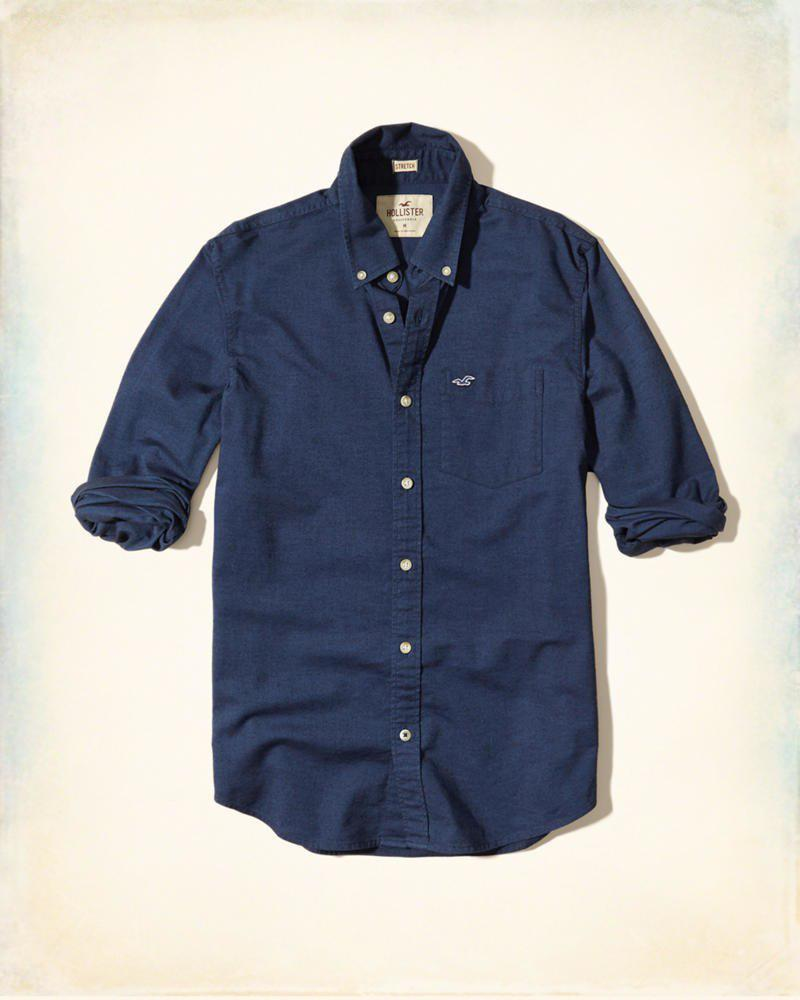teeshirt: (61, 119, 739, 865)
